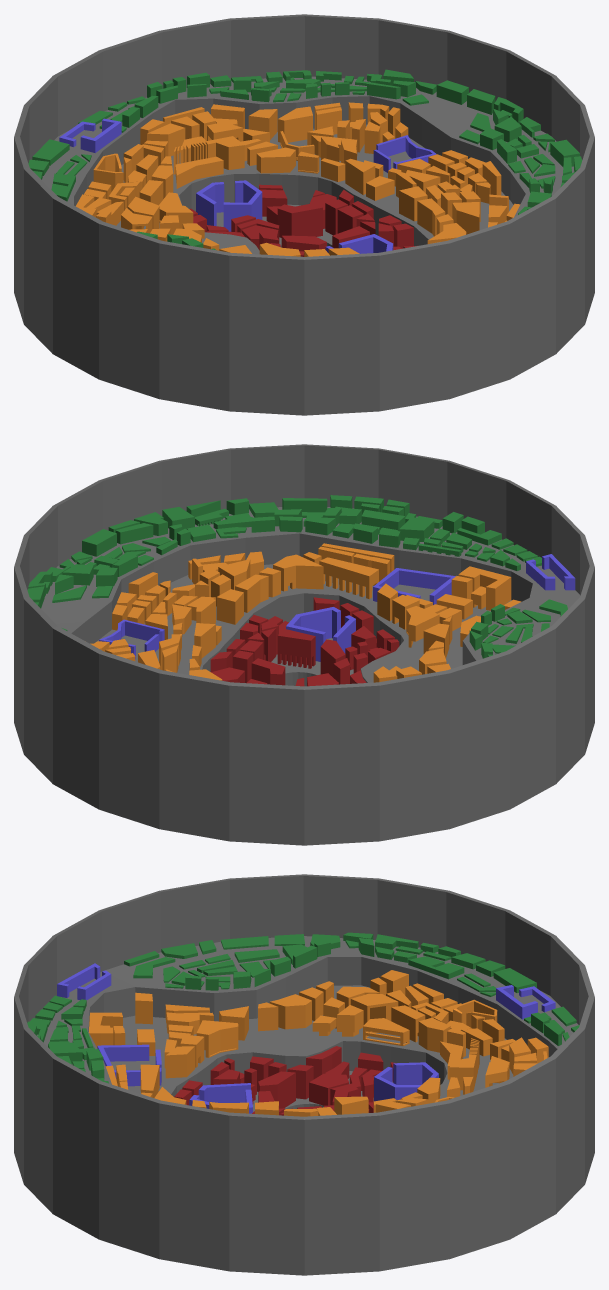
The model's file is P_JPO_Bowl_V5.fbx.
3 views of the same model, one above another, from view 1: azimuth 30°, elevation 25°; view 2: azimuth 150°, elevation 25°; view 3: azimuth 270°, elevation 25° (orthographic).
Parts seen in each view (by area): view 1: M_New_Bowl, M_Hearts, M_Buildings_Third_Floor.026, M_Buildings_Second_Floor.043, M_Buildings_Second_Floor.063, M_Buildings_Second_Floor.046, M_Buildings_Second_Floor.047, M_Buildings_Second_Floor.052, M_Buildings_Second_Floor.021, M_Buildings_Second_Floor.050, M_Buildings_Second_Floor.036, M_Buildings_Second_Floor.104 (+10 smaller); view 2: M_New_Bowl, M_Hearts, M_Buildings_Second_Floor.117, M_Buildings_Second_Floor.112, M_Buildings_Third_Floor.015, M_Buildings_Second_Floor.001, M_Buildings_Second_Floor.014, M_Buildings_Second_Floor.084, M_Buildings_Second_Floor.111, M_Buildings_Third_Floor.026, M_Buildings_Third_Floor_To_Fix, M_Buildings_First_Floor.114 (+12 smaller); view 3: M_New_Bowl, M_Hearts, M_Buildings_Second_Floor.021, M_Buildings_Second_Floor.014, M_Buildings_Second_Floor.017, M_Buildings_Third_Floor.013, M_Buildings_Second_Floor.025, M_Buildings_Second_Floor.023, M_Buildings_Second_Floor.001, M_Buildings_Second_Floor.013, M_Buildings_Third_Floor.041, M_Buildings_Second_Floor.039 (+14 smaller).
Part boxes in pixels (x1,y1,x2,y2): M_New_Bowl: (14, 14, 594, 415); M_Hearts: (59, 118, 436, 253); M_Buildings_Third_Floor.026: (277, 202, 322, 237); M_Buildings_Second_Floor.043: (175, 156, 223, 188); M_Buildings_Second_Floor.063: (278, 106, 312, 142); M_Buildings_Second_Floor.046: (205, 136, 244, 169); M_Buildings_Second_Floor.047: (256, 147, 295, 173); M_Buildings_Second_Floor.052: (144, 123, 185, 157); M_Buildings_Second_Floor.021: (160, 205, 204, 238); M_Buildings_Second_Floor.050: (345, 158, 375, 194); M_Buildings_Second_Floor.036: (93, 153, 123, 191); M_Buildings_Second_Floor.104: (452, 202, 479, 234); M_New_Bowl: (14, 444, 594, 845); M_Hearts: (99, 554, 575, 661); M_Buildings_Second_Floor.117: (319, 557, 378, 599); M_Buildings_Second_Floor.112: (273, 554, 323, 591); M_Buildings_Third_Floor.015: (277, 628, 315, 668); M_Buildings_Second_Floor.001: (458, 566, 511, 610); M_Buildings_Second_Floor.014: (406, 606, 439, 647); M_Buildings_Second_Floor.084: (216, 589, 243, 624); M_Buildings_Second_Floor.111: (235, 574, 268, 612); M_Buildings_Third_Floor.026: (251, 658, 285, 685); M_Buildings_Third_Floor_To_Fix: (345, 626, 378, 670); M_Buildings_First_Floor.114: (82, 529, 116, 556); M_New_Bowl: (14, 874, 594, 1275); M_Hearts: (57, 963, 555, 1113); M_Buildings_Second_Floor.021: (312, 997, 363, 1036); M_Buildings_Second_Floor.014: (196, 1020, 238, 1057); M_Buildings_Second_Floor.017: (269, 994, 311, 1029); M_Buildings_Third_Floor.013: (258, 1071, 295, 1108); M_Buildings_Second_Floor.025: (363, 1018, 409, 1046); M_Buildings_Second_Floor.023: (351, 993, 398, 1024); M_Buildings_Second_Floor.001: (89, 1012, 122, 1047); M_Buildings_Second_Floor.013: (165, 1046, 194, 1078); M_Buildings_Third_Floor.041: (309, 1073, 348, 1105); M_Buildings_Second_Floor.039: (418, 1017, 450, 1052).
Bounding box in the file's own units: 50400 × 14989 × 50400.
